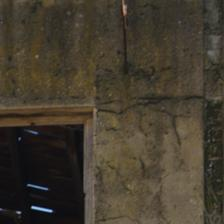Crack: (102, 89, 206, 149)
